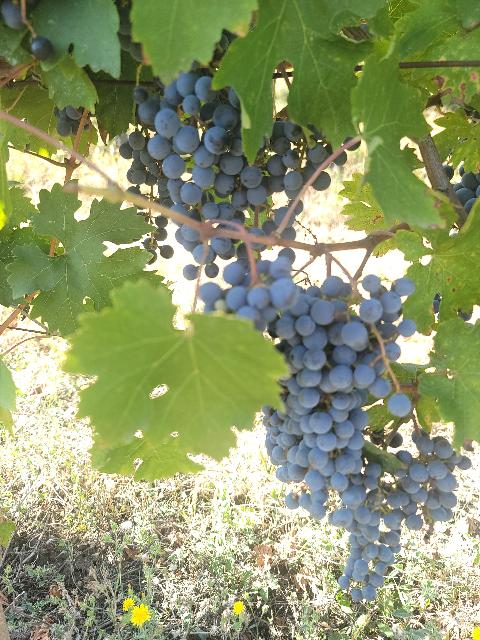grapes: (269, 275, 415, 510), (135, 71, 268, 219), (329, 464, 422, 602), (388, 430, 471, 530), (199, 249, 300, 331)
